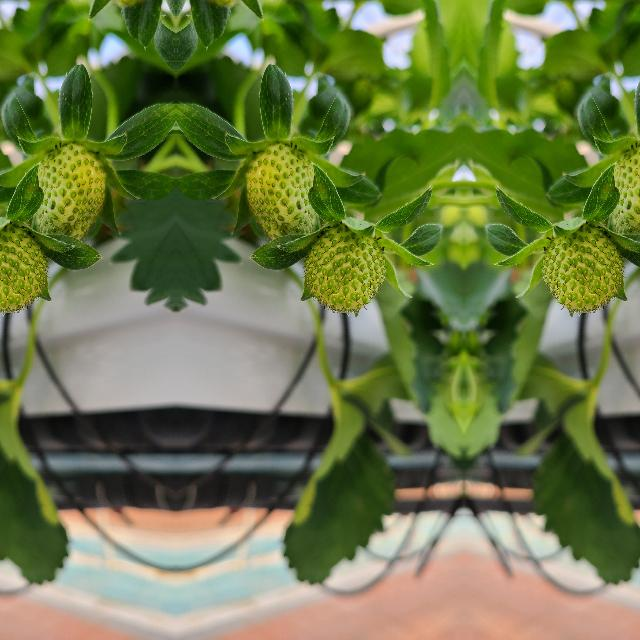Health_25: (240, 144, 322, 246), (28, 144, 110, 246), (300, 222, 386, 316), (540, 222, 626, 316), (0, 222, 49, 316), (603, 144, 640, 246)
